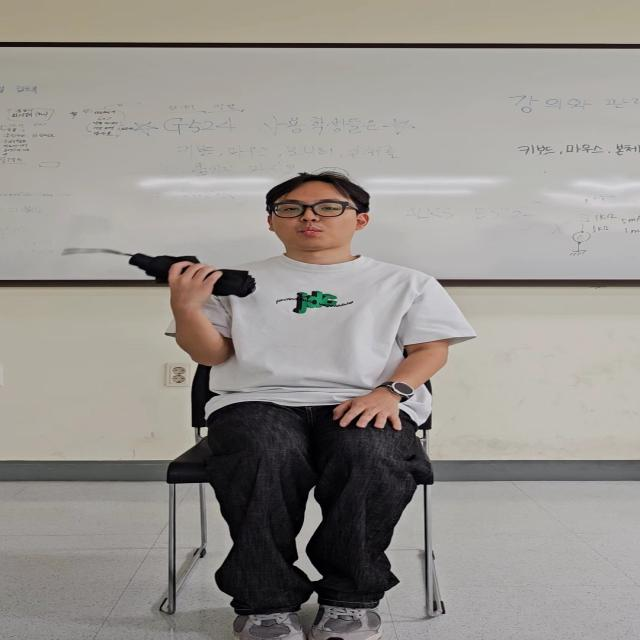curl: (107, 245, 256, 372)
